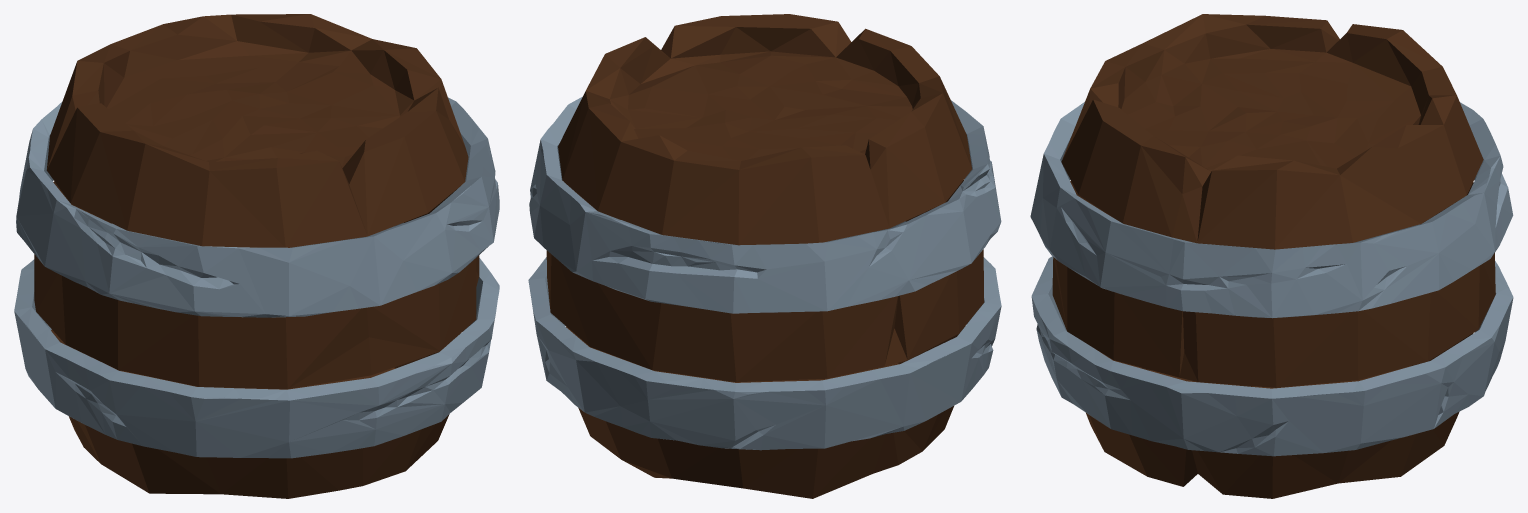
File: low_poly_barrel.glb
The picture shows the model from 3 angles, left to right: view 1: azimuth 30°, elevation 25°; view 2: azimuth 150°, elevation 25°; view 3: azimuth 270°, elevation 25°; orthographic projection. The views are drawn at different scales.
Visible parts, largest first — view 1: barrel, metal_banders; view 2: barrel, metal_banders; view 3: barrel, metal_banders.
Part boxes in pixels (x1,y1,x2,y2): barrel: (34, 14, 479, 498); metal_banders: (14, 97, 499, 458); barrel: (546, 14, 984, 498); metal_banders: (528, 97, 1001, 450); barrel: (1052, 14, 1495, 498); metal_banders: (1030, 102, 1513, 456).
Size of the model in its own units: 2.63 by 2.09 by 2.63.
